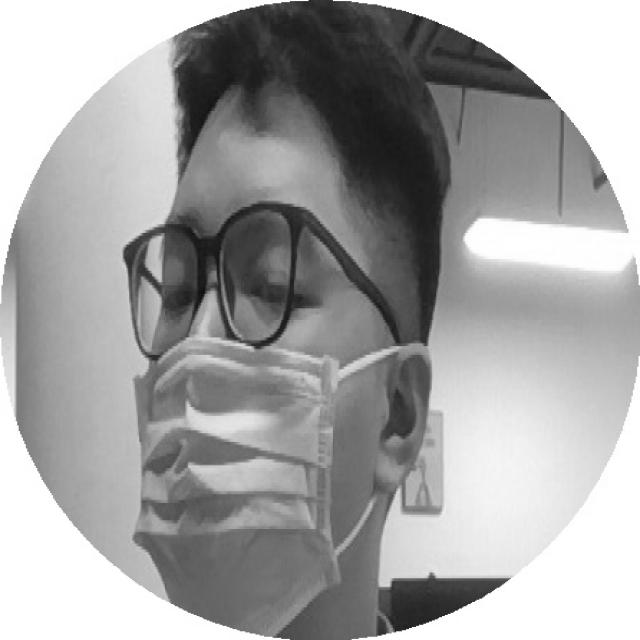fake: (138, 343, 355, 632)
real: (128, 221, 331, 332)
